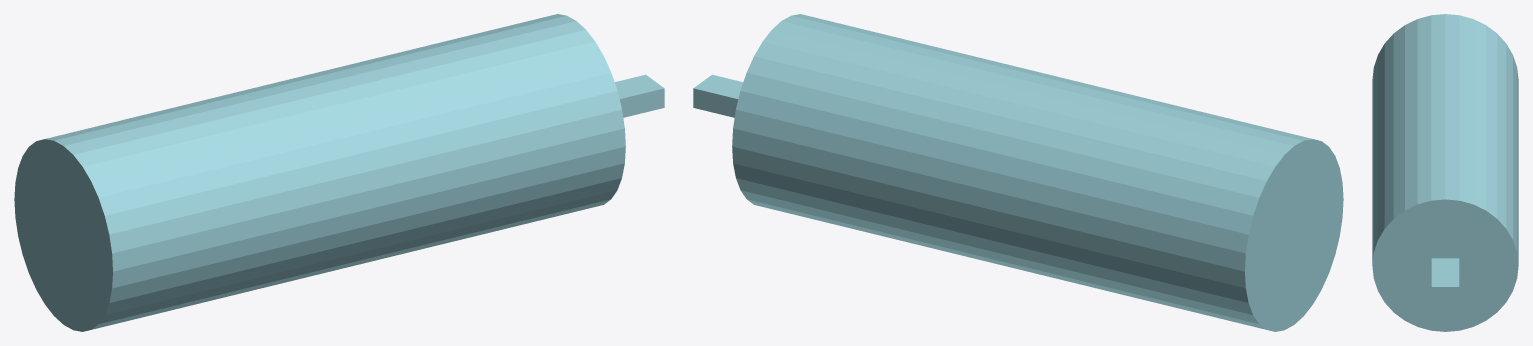
Rendered from cylinder_marker_v4007.obj.
3 renders of one model, left to right at view 1: azimuth 30°, elevation 25°; view 2: azimuth 150°, elevation 25°; view 3: azimuth 270°, elevation 25°, orthographic. The views are drawn at different scales.
Size of the model in its own units: 0.1729 by 0.05 by 0.05.
Materials: 1 (1 with a texture image).
